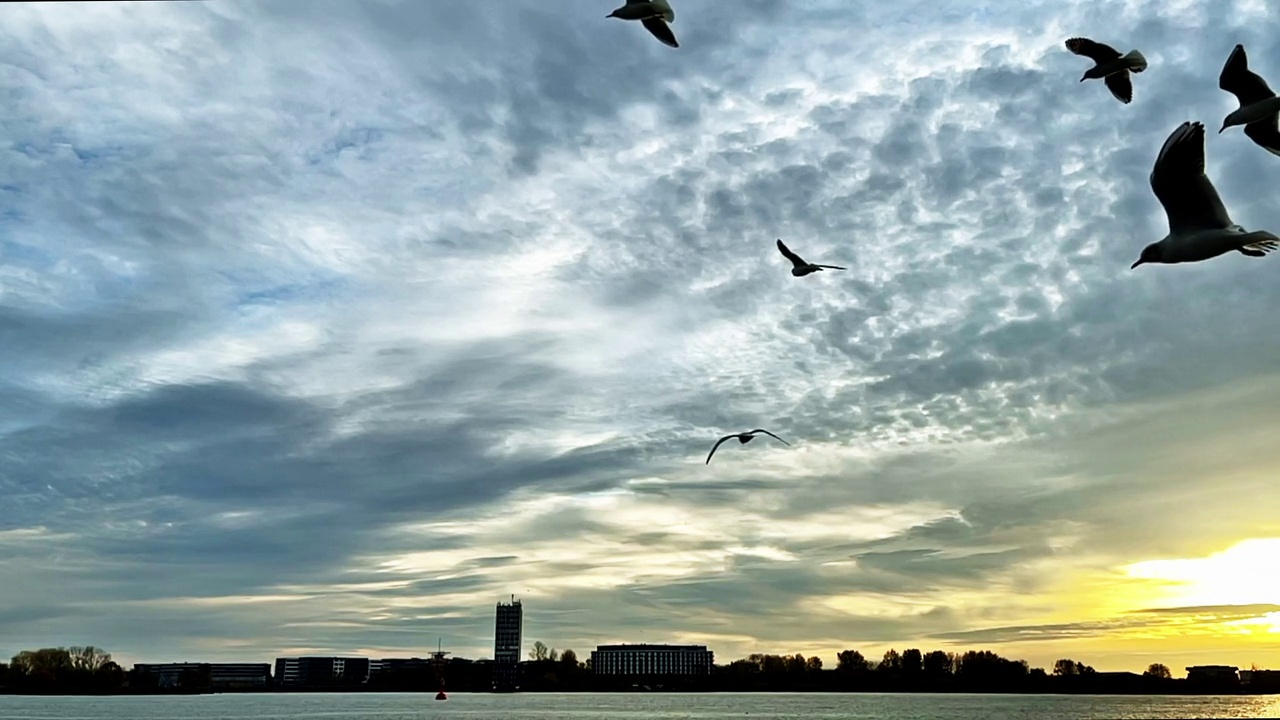bird: (1128, 120, 1279, 268), (1217, 44, 1280, 158), (1063, 37, 1147, 106), (606, 0, 678, 48), (706, 426, 791, 464), (776, 237, 846, 277)
